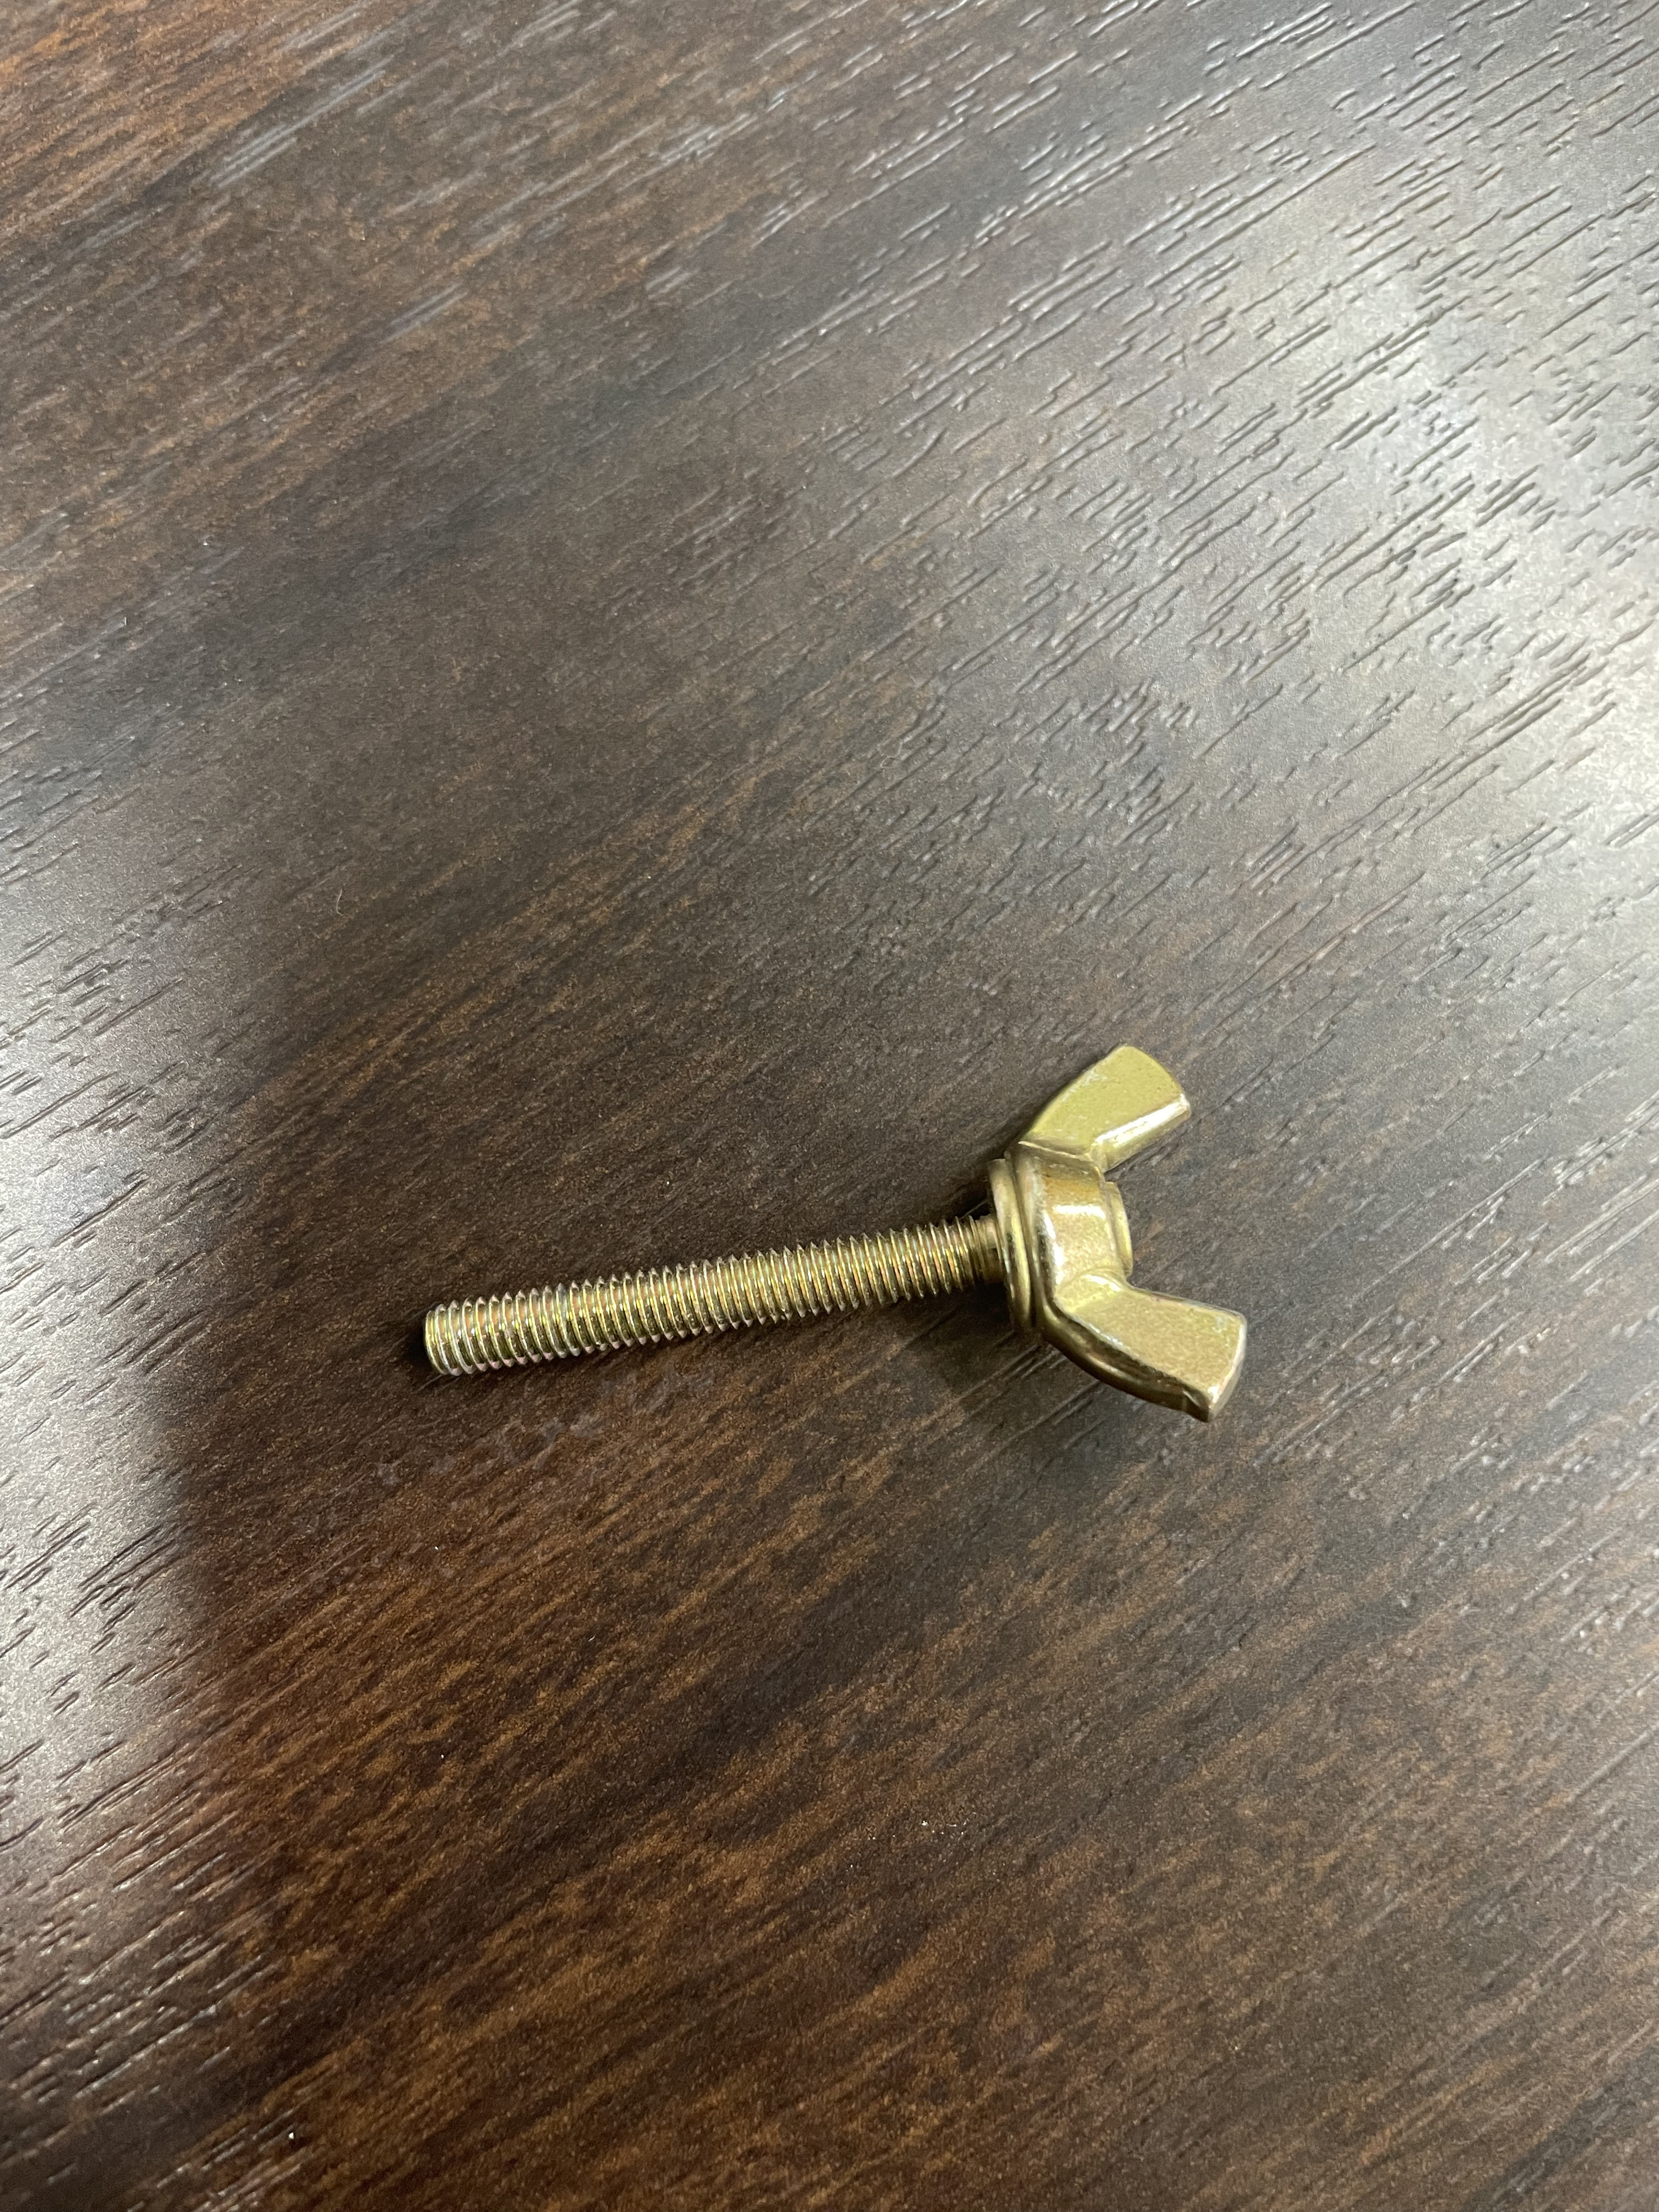screw0: (414, 1040, 1257, 1433)
